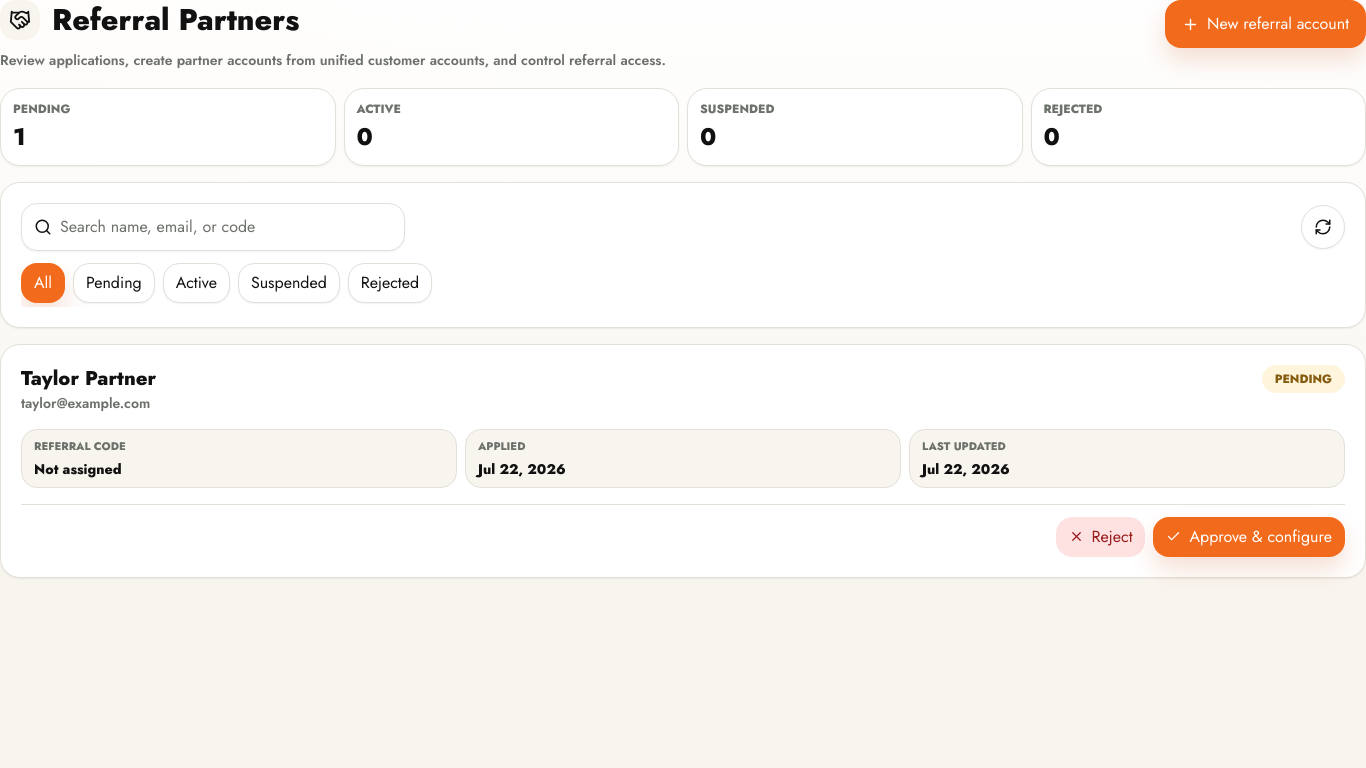
Test: referral partner administration › opens a pending application with its unified account selected
This screenshot has width=1366, height=768.
What coordinates should you click on to do the following:
click the button "Approve & configure"
I would click on:
 (1249, 536)
Its box is [1154,516,1345,556].
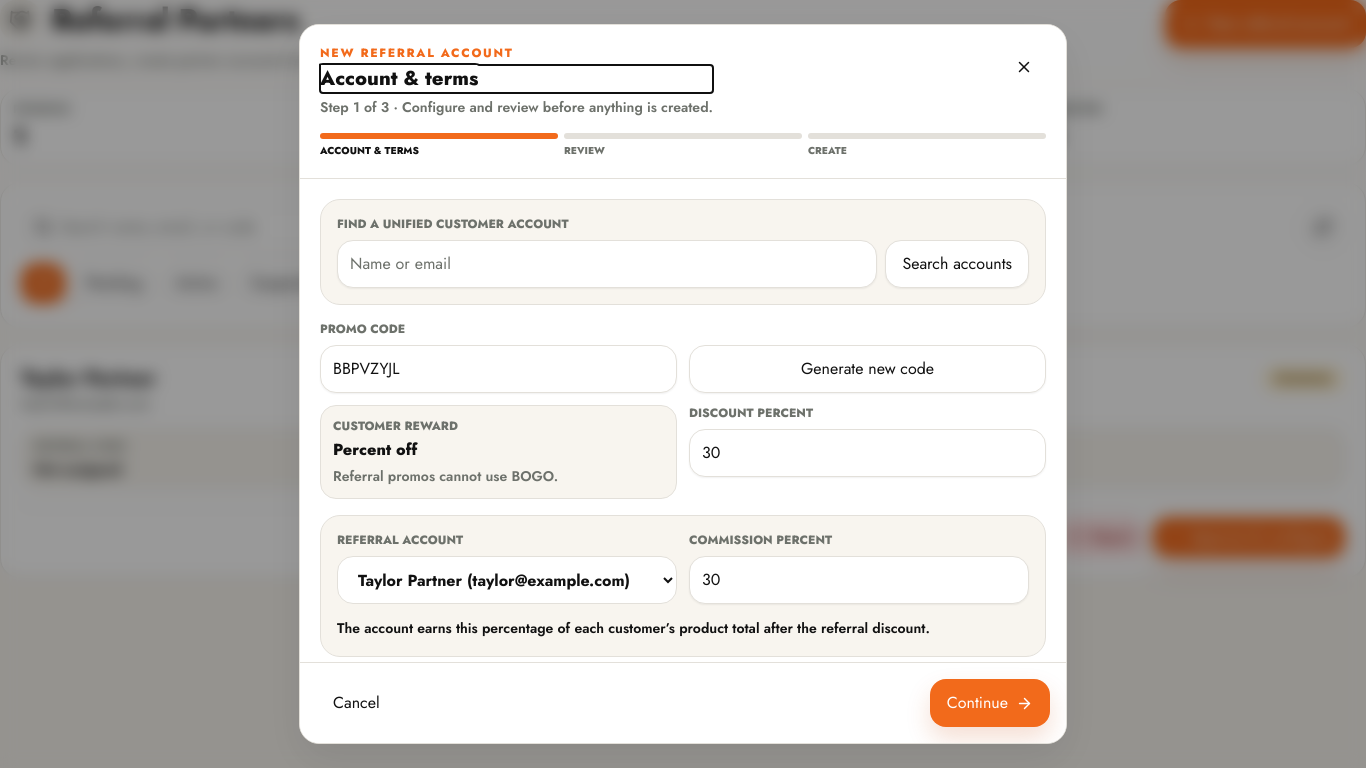
Check: the dialog "Account & terms" is shown, box [299,24,1067,744]
Check: the dropdown labelled "Referral account" shows "Taylor Partner (taylor@example.com)", box [337,556,677,604]
